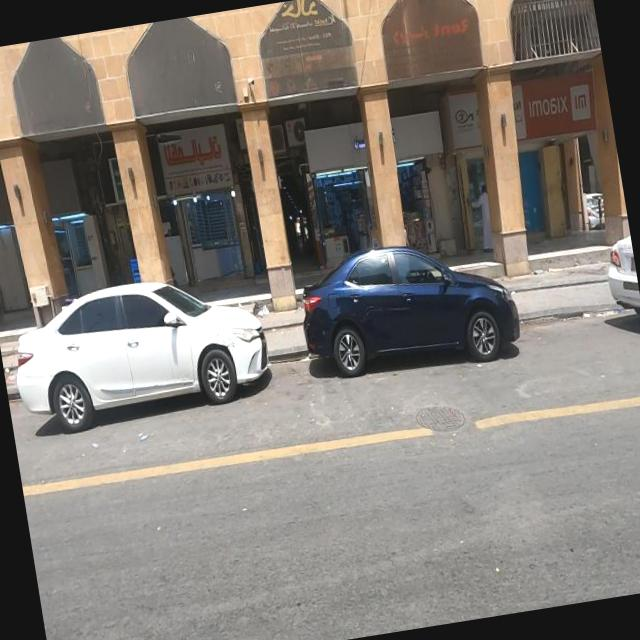debris: (341, 0, 540, 138), (220, 0, 428, 125)
